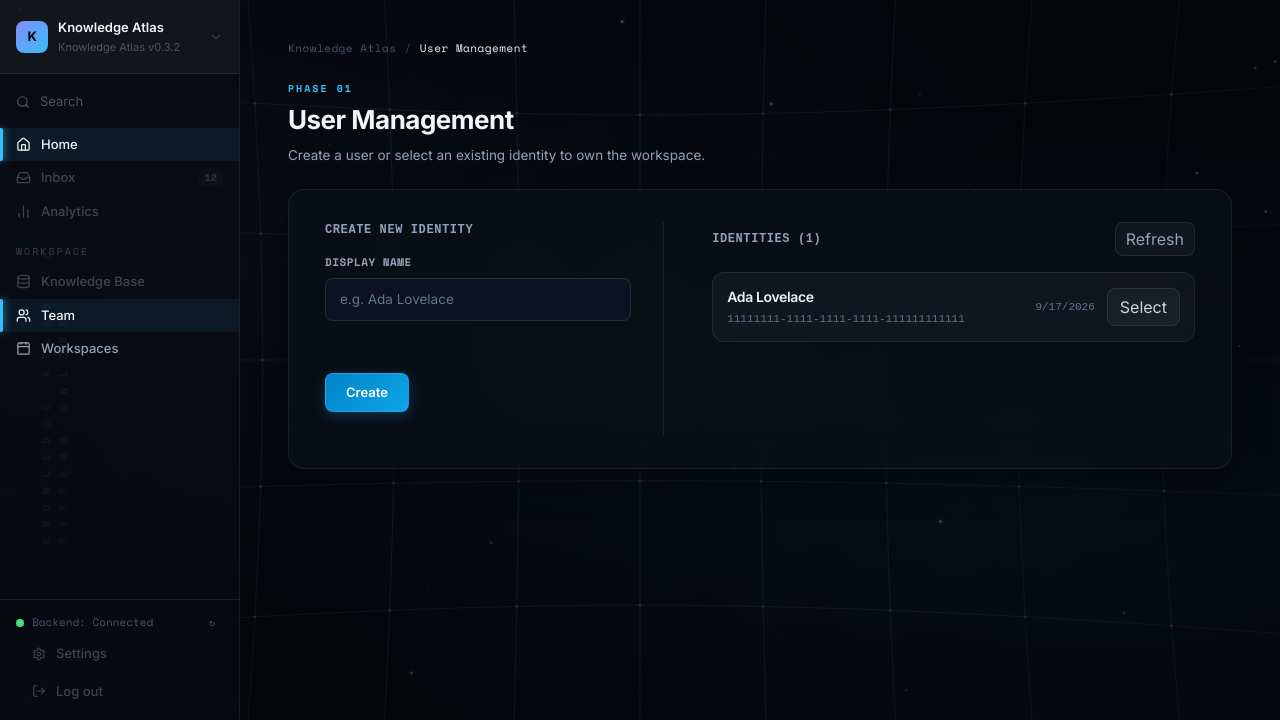
Test: HomePage Health State UI (§16, §25, §27) › preserves the selected user when returning to user management
Click the button "Select": (1143, 307) left=1107, top=288, right=1180, bottom=326
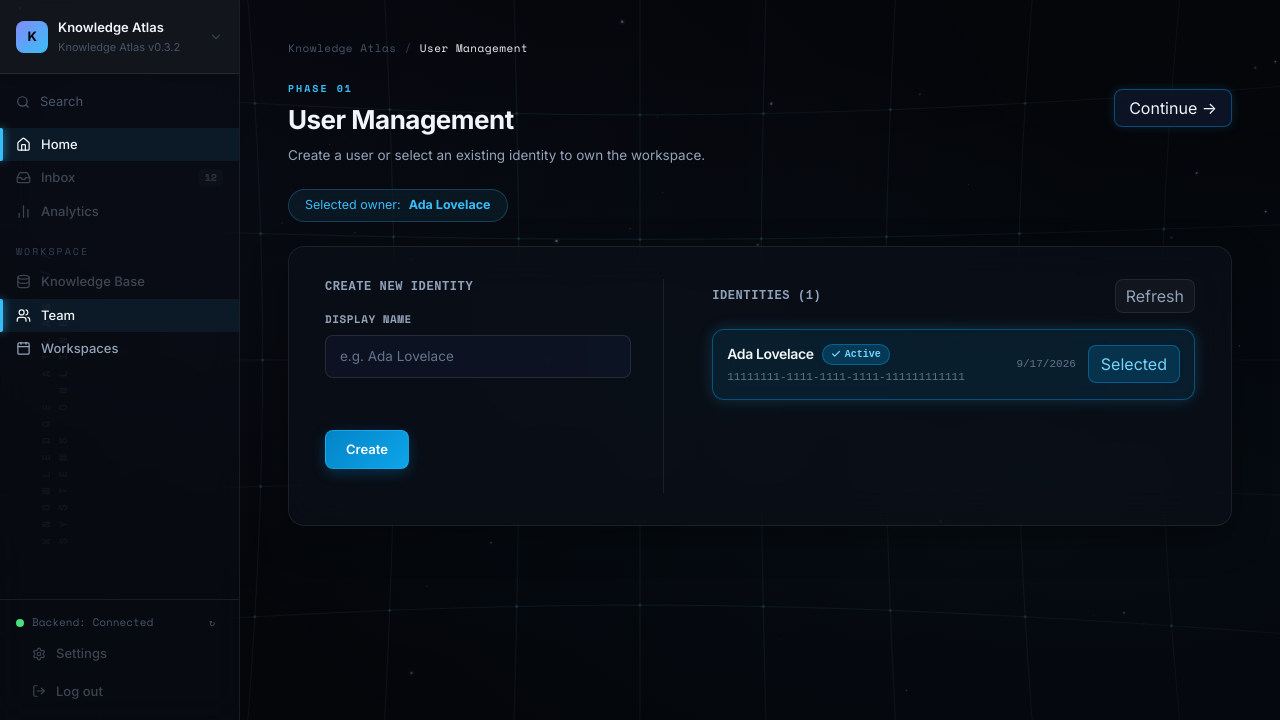
Click the button with test id "continue-to-workspaces": (1173, 108) left=1114, top=88, right=1232, bottom=126
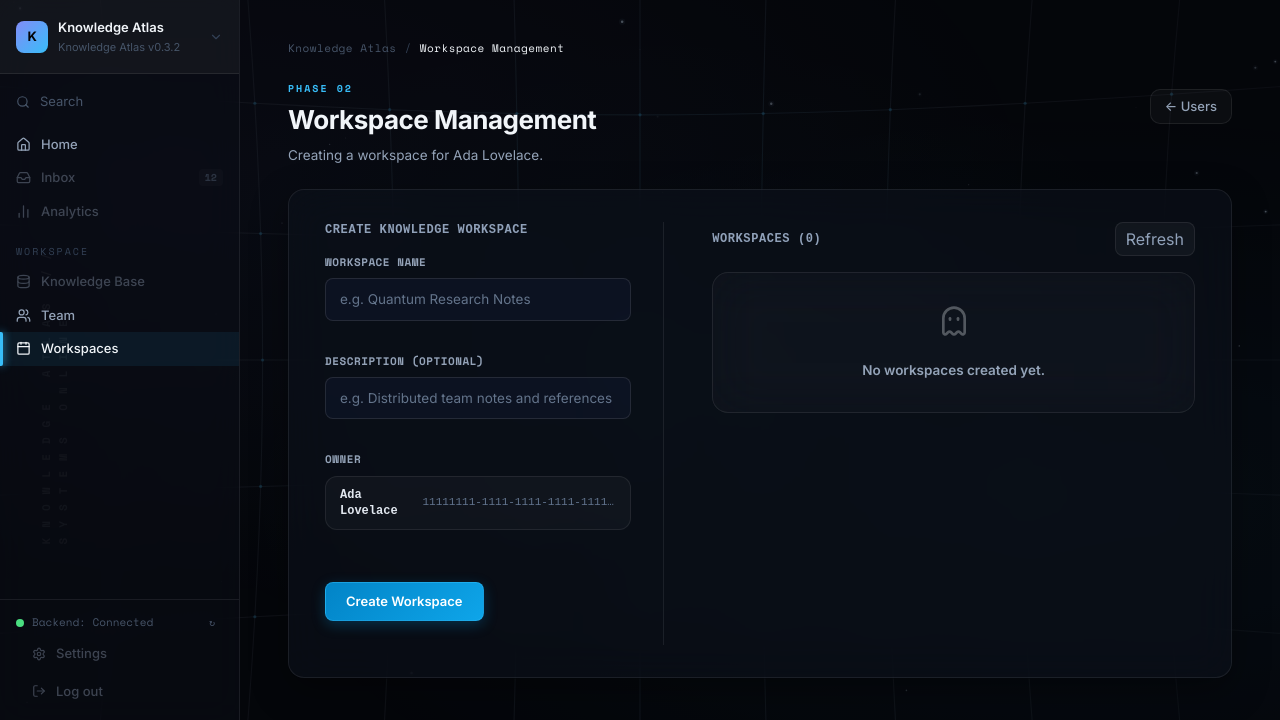
Check: the heading "Workspace Management" is shown, box left=288, top=100, right=596, bottom=138
Note: Click back ("← Users" button)
Click the button "← Users": (1191, 106) left=1150, top=88, right=1232, bottom=124
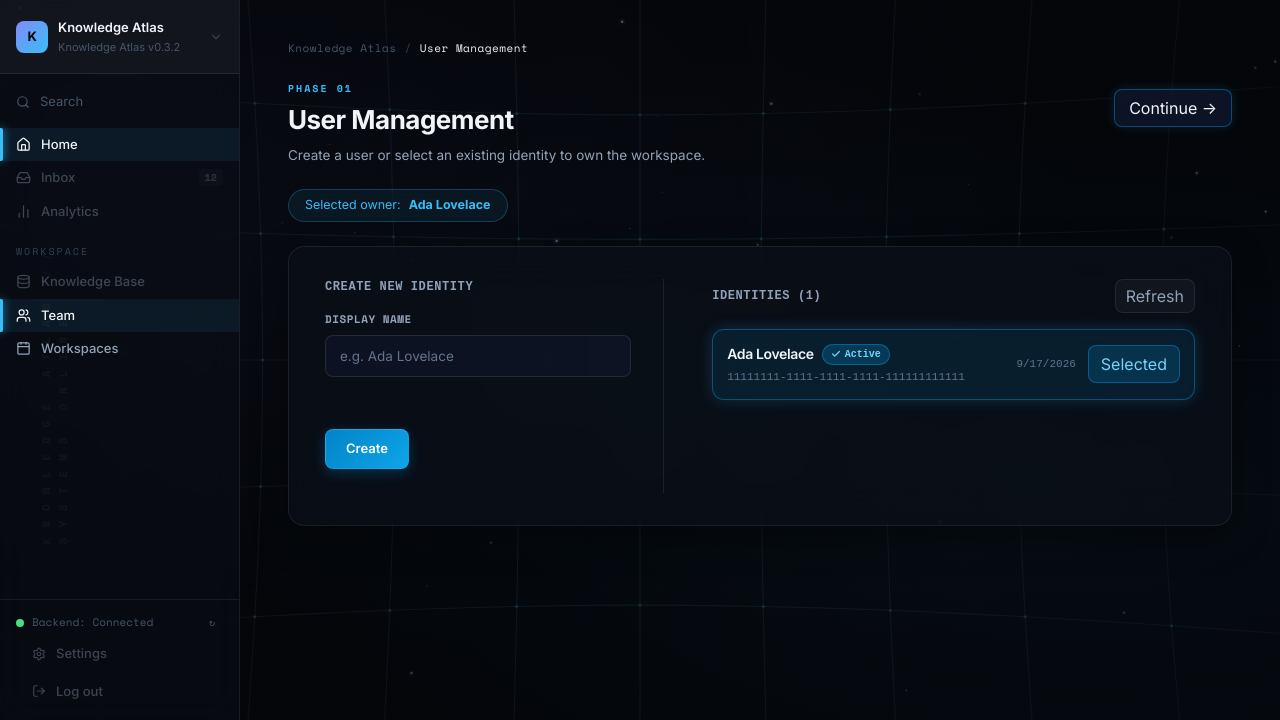
Check: the message reads "Selected owner: Ada Lovelace", box left=288, top=189, right=508, bottom=222
